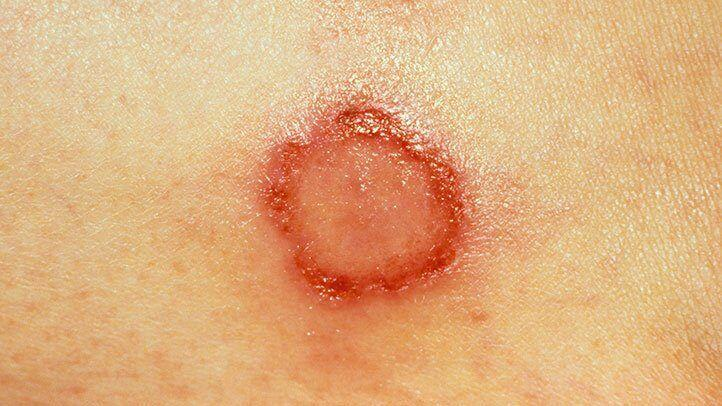Spider: (236, 74, 495, 334)
